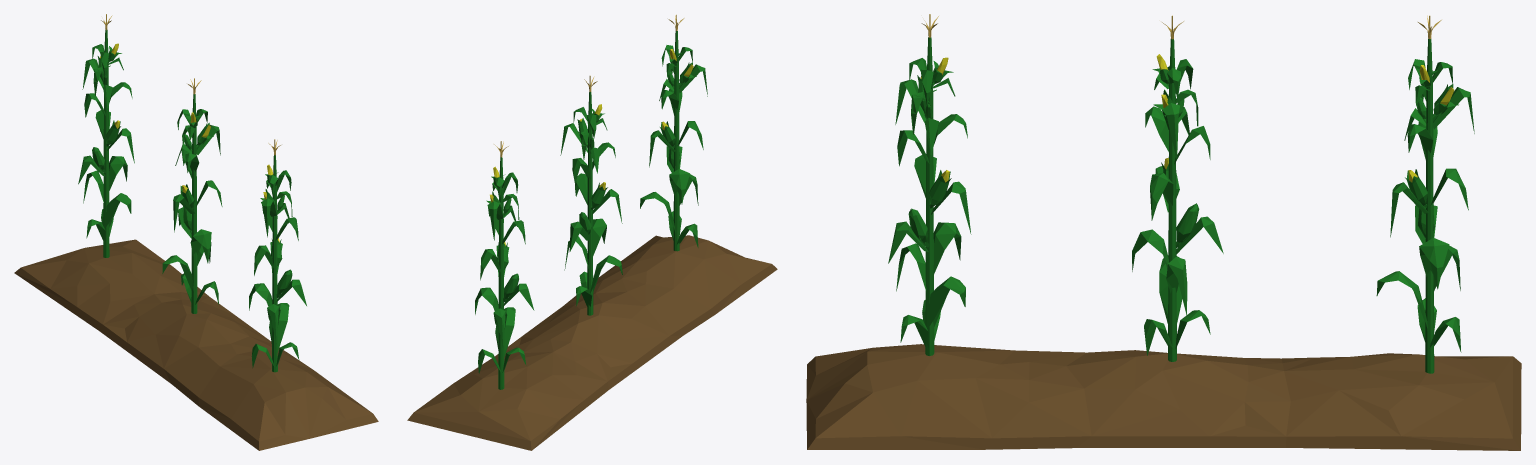
File: milho.fbx
The picture shows the model from 3 angles, left to right: view 1: azimuth 30°, elevation 25°; view 2: azimuth 150°, elevation 25°; view 3: azimuth 270°, elevation 25°; orthographic projection. The views are drawn at different scales.
Parts seen in each view (by area): view 1: Terra.000, FolhaMilho.000, FolhaMilho.006, FolhaMilho.035, Cylinder.002, Cylinder, Cylinder.003; view 2: Terra.000, FolhaMilho.035, FolhaMilho.000, FolhaMilho.006, Cylinder.003, Cylinder.002, Cylinder; view 3: Terra.000, FolhaMilho.006, FolhaMilho.035, FolhaMilho.000, Cylinder.002, Cylinder, Cylinder.003.
Part boxes in pixels (left/top/right/bottom): Terra.000: left=14, top=239, right=378, bottom=450; FolhaMilho.000: left=78, top=44, right=134, bottom=240; FolhaMilho.006: left=249, top=170, right=306, bottom=368; FolhaMilho.035: left=162, top=109, right=222, bottom=304; Cylinder.002: left=103, top=30, right=109, bottom=257; Cylinder: left=191, top=94, right=197, bottom=313; Cylinder.003: left=272, top=155, right=277, bottom=372; Terra.000: left=407, top=235, right=777, bottom=450; FolhaMilho.035: left=560, top=107, right=622, bottom=306; FolhaMilho.000: left=475, top=172, right=534, bottom=373; FolhaMilho.006: left=640, top=45, right=707, bottom=247; Cylinder.003: left=673, top=31, right=679, bottom=251; Cylinder.002: left=498, top=157, right=504, bottom=389; Cylinder: left=587, top=92, right=593, bottom=315; Terra.000: left=806, top=344, right=1521, bottom=450; FolhaMilho.006: left=888, top=58, right=971, bottom=347; FolhaMilho.035: left=1132, top=59, right=1223, bottom=355; FolhaMilho.000: left=1376, top=59, right=1474, bottom=352; Cylinder.002: left=1425, top=39, right=1434, bottom=373; Cylinder: left=1168, top=39, right=1176, bottom=361; Cylinder.003: left=925, top=37, right=934, bottom=355.
Size of the model in its own units: 206 by 428 by 709.
